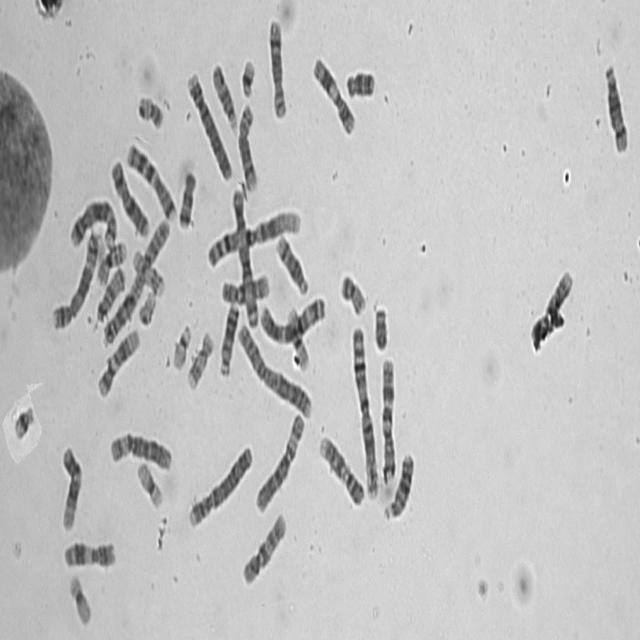A1: (203, 200, 302, 270), (348, 317, 380, 502)
A2: (99, 210, 170, 349), (233, 314, 314, 420)
A3: (228, 179, 260, 330), (256, 286, 327, 346)
B4: (184, 436, 254, 531), (182, 62, 234, 182)
B5: (48, 220, 102, 331), (65, 190, 118, 252)
C10: (238, 502, 288, 588), (218, 264, 272, 306)
C11: (309, 48, 357, 137), (59, 533, 118, 571)
C12: (94, 320, 142, 399), (57, 437, 83, 532)
C6: (252, 404, 306, 515), (106, 422, 173, 474)
C7: (122, 134, 178, 223), (378, 348, 398, 487)
C8: (264, 10, 288, 120), (234, 94, 259, 194)
C9: (528, 263, 574, 362), (315, 427, 366, 508)
D13: (380, 443, 416, 522), (215, 294, 240, 378)
D14: (600, 54, 630, 156), (272, 226, 310, 297)
D15: (208, 55, 238, 134), (92, 258, 126, 325)
E16: (283, 299, 310, 372), (93, 233, 127, 287)
E17: (128, 241, 166, 298), (183, 324, 214, 392)
E18: (175, 163, 198, 230), (342, 60, 377, 101)
F19: (133, 452, 165, 510), (65, 566, 93, 628)
F20: (336, 264, 368, 317), (133, 84, 165, 130)
G21: (9, 396, 36, 442), (237, 51, 257, 98)
G22: (168, 315, 193, 372), (134, 282, 158, 327)
X: (107, 151, 151, 239)
Y: (370, 297, 390, 352)
